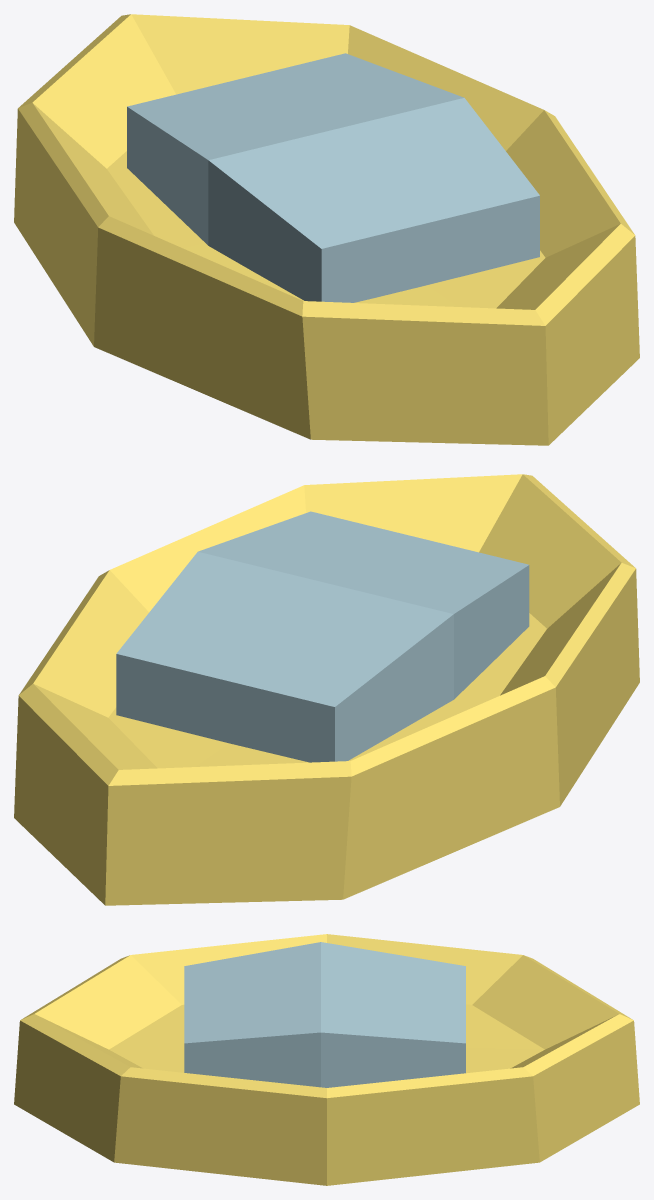
File: Bathroom_Soap.fbx
The picture shows the model from 3 angles, top to bottom: view 1: azimuth 30°, elevation 25°; view 2: azimuth 150°, elevation 25°; view 3: azimuth 270°, elevation 25°; orthographic projection. The views are drawn at different scales.
Parts seen in each view (by area): view 1: Bathroom_Soap; view 2: Bathroom_Soap; view 3: Bathroom_Soap.
Boxes of the visible parts, x1,y1,x2,y2 form: Bathroom_Soap: (14,14,639,445); Bathroom_Soap: (14,474,639,905); Bathroom_Soap: (14,934,639,1185).
Bounding box in the file's own units: 17.43 × 5.86 × 28.06.
